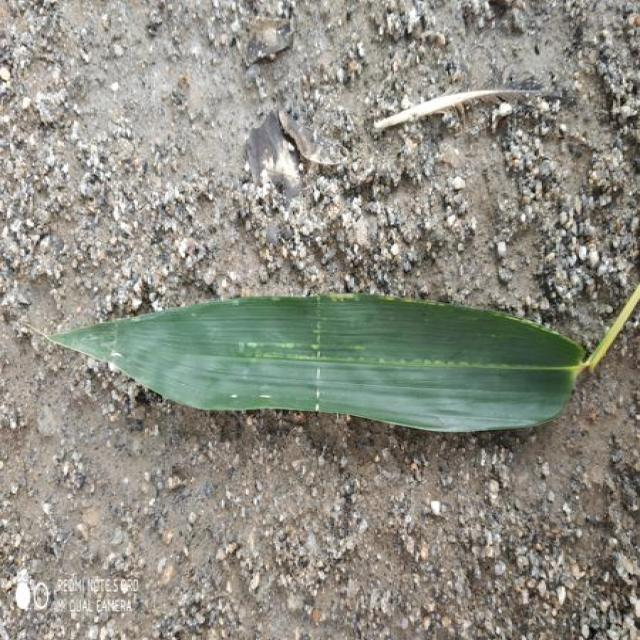Bamboo: (53, 295, 583, 431)
